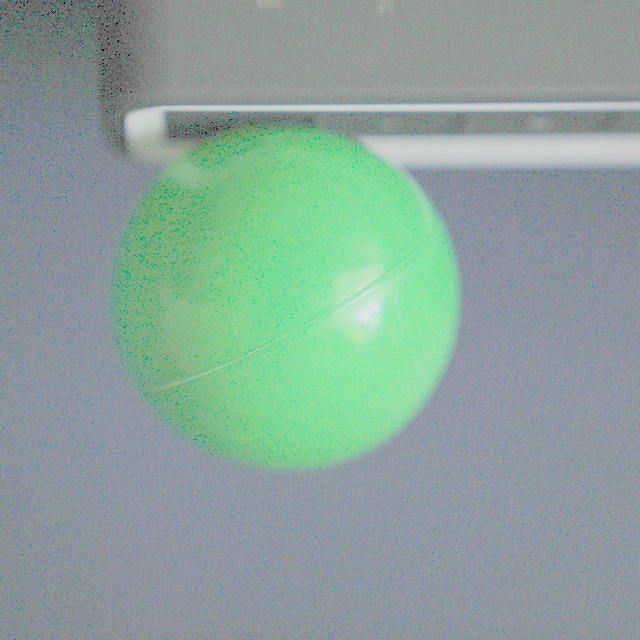Ball: (117, 127, 459, 467)
